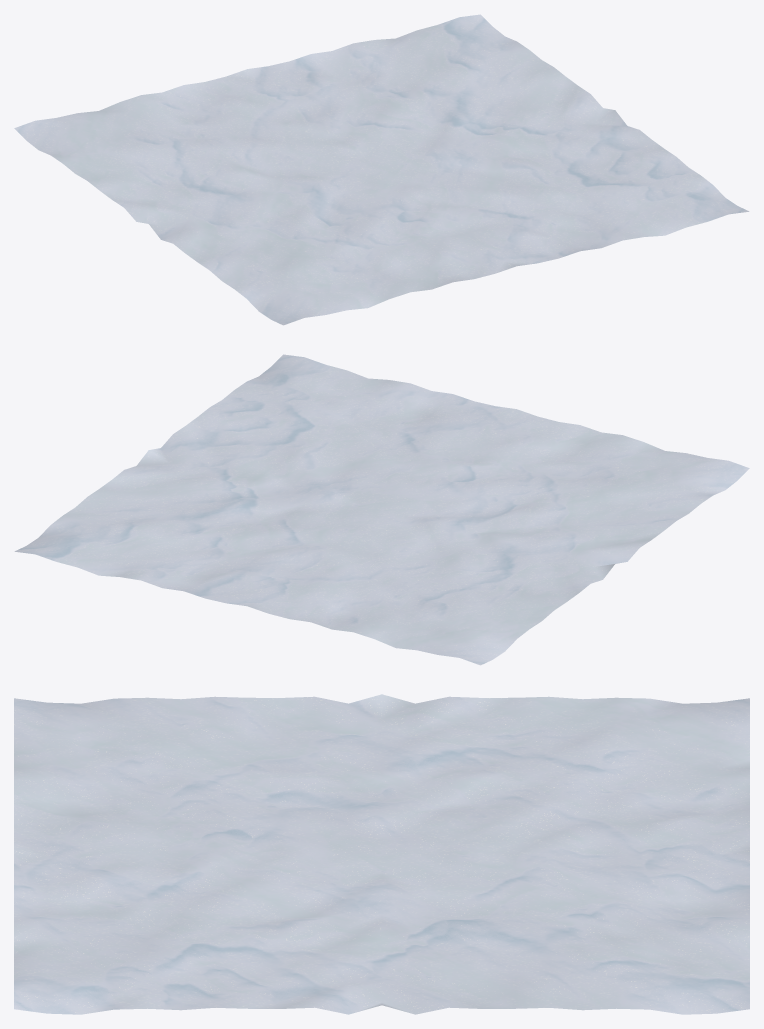
File: Piso tileable(1).glb
3 views of the same model, one above another, from view 1: azimuth 30°, elevation 25°; view 2: azimuth 150°, elevation 25°; view 3: azimuth 270°, elevation 25° (orthographic). The views are drawn at different scales.
Parts seen in each view (by area): view 1: Piso tileable; view 2: Piso tileable; view 3: Piso tileable.
Boxes of the visible parts, x1=… form: Piso tileable: x1=14, y1=14, x2=749, y2=325; Piso tileable: x1=14, y1=354, x2=749, y2=665; Piso tileable: x1=14, y1=694, x2=749, y2=1014.
Size of the model in its own units: 200 by 3.45 by 200.
Materials: 1 (1 with a texture image).
